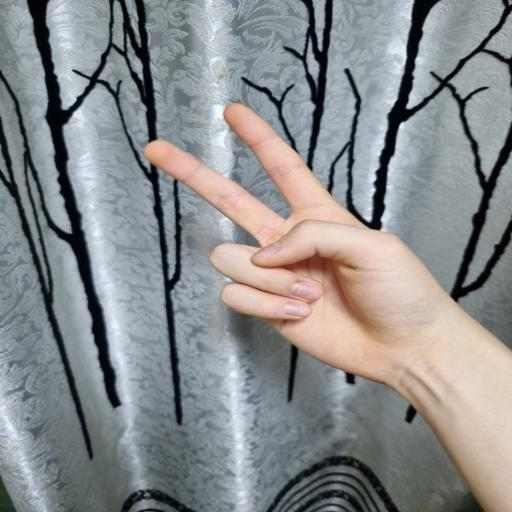Scissors: (143, 102, 512, 512)
